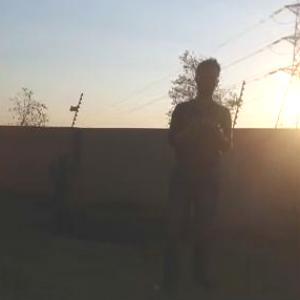follow: (147, 55, 236, 286)
